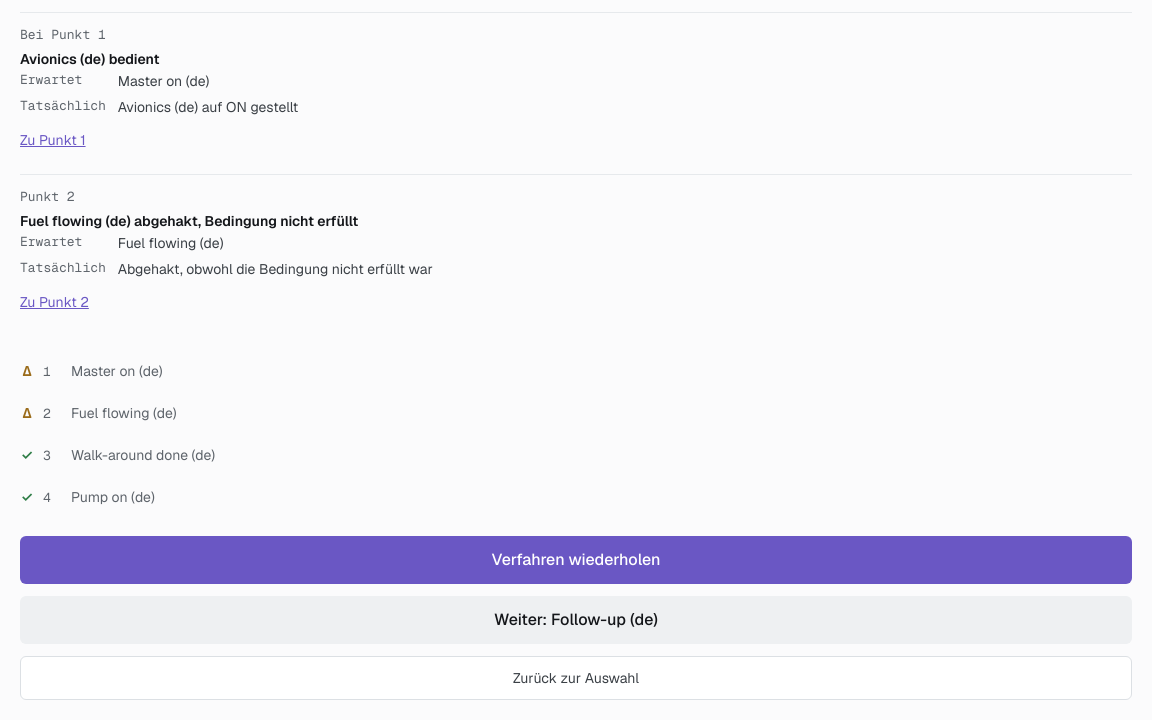
Test: full flight summary › renders the German flight summary
(page scrolled)
Click the button "Weiter: Follow-up (de)": (576, 620) 20,596 -> 1132,644
(page scrolled)
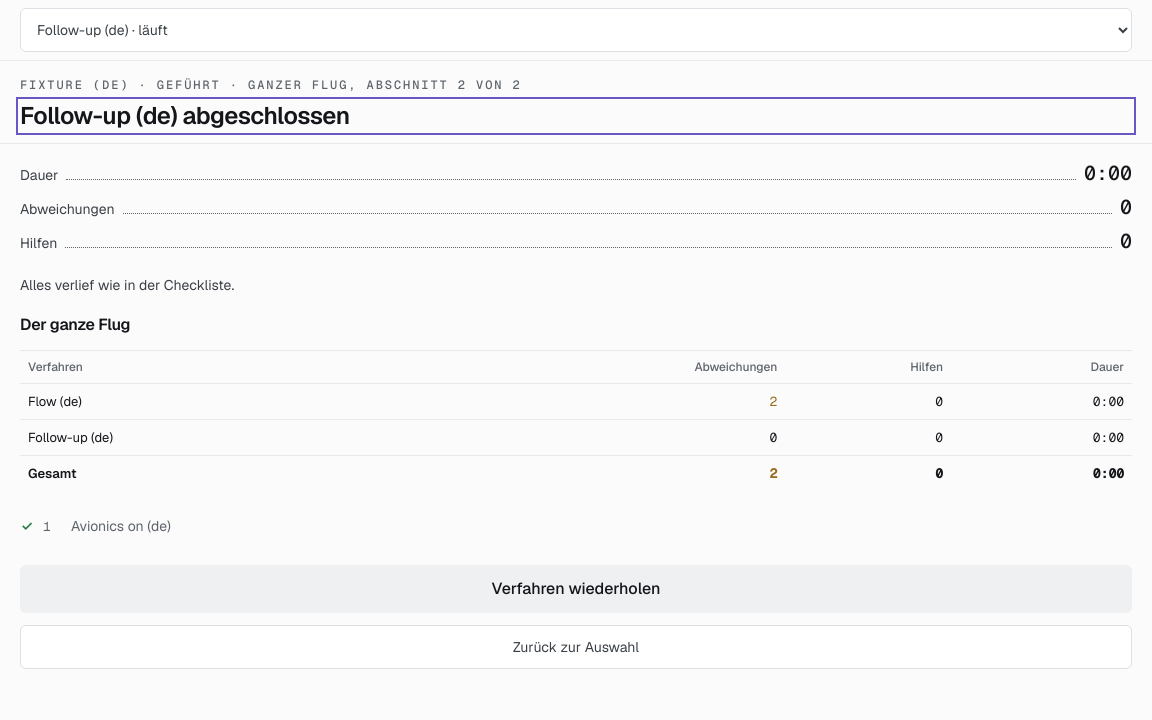
Expected: the element "Der ganze Flug" is shown, 0,296 -> 1151,491
